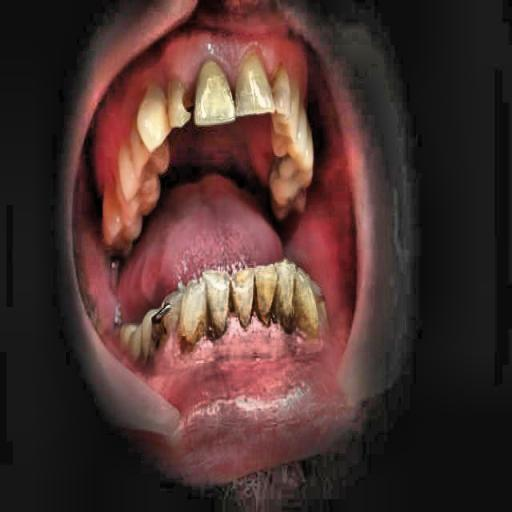Caries: (172, 72, 224, 130)
